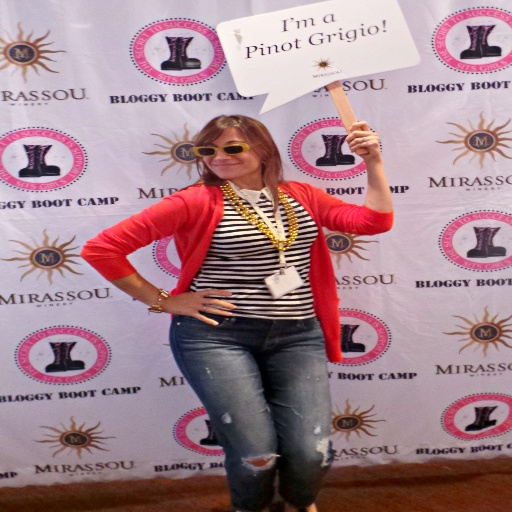hand: (160, 289, 236, 327), (331, 124, 387, 159)
